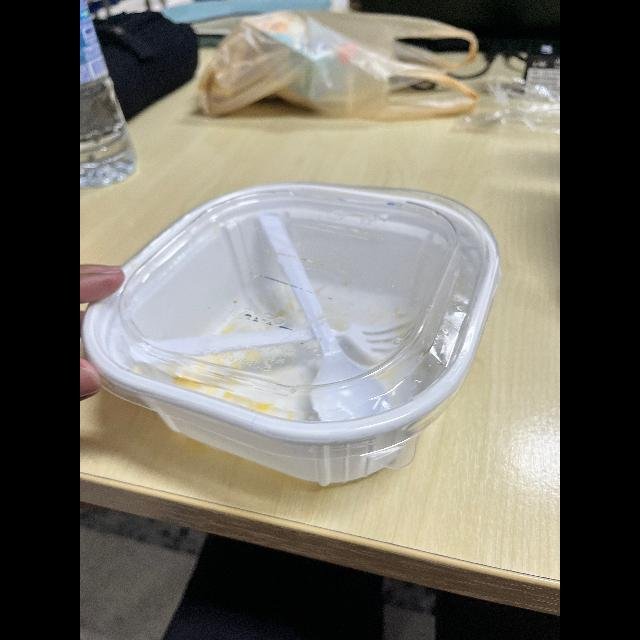plastic_box: (80, 168, 503, 498)
